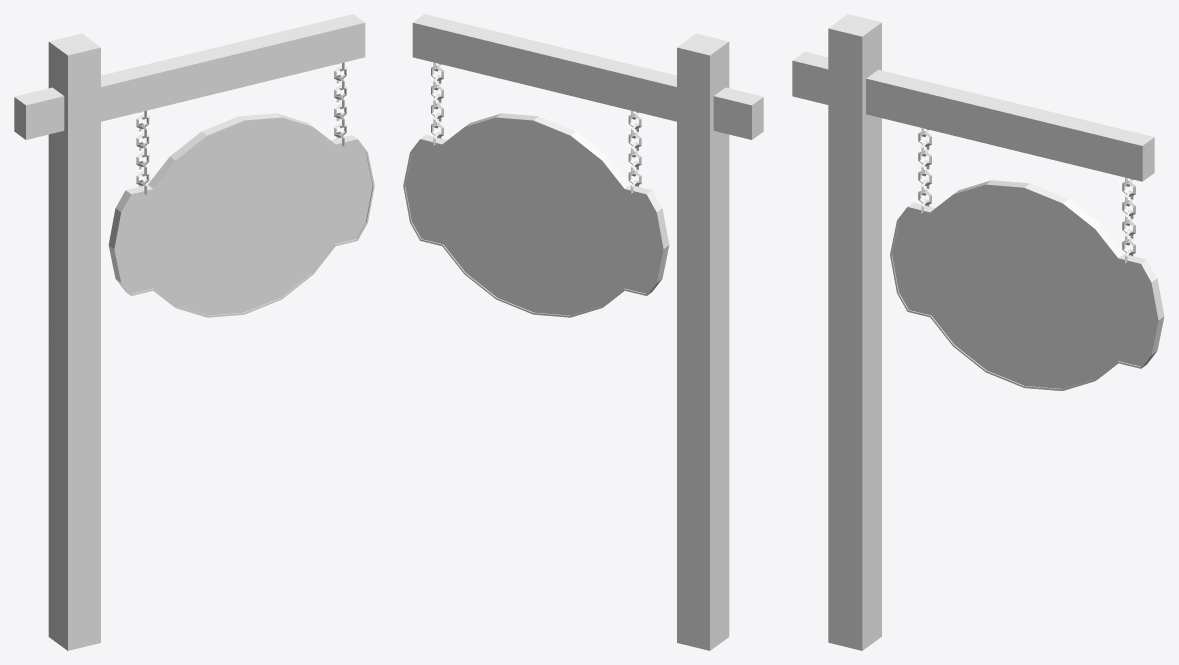
Rendered from Bld_Farm_Sign_02.glb.
3 renders of one model, left to right at view 1: azimuth 30°, elevation 25°; view 2: azimuth 150°, elevation 25°; view 3: azimuth 330°, elevation 25°, orthographic. The views are drawn at different scales.
Visible parts, largest first — view 1: Bld_Farm_Sign_02; view 2: Bld_Farm_Sign_02; view 3: Bld_Farm_Sign_02.
Part boxes in pixels (x1,y1,x2,y2): Bld_Farm_Sign_02: [14, 14, 374, 650]; Bld_Farm_Sign_02: [403, 14, 763, 650]; Bld_Farm_Sign_02: [792, 14, 1164, 650].
Size of the model in its own units: 1.27 by 2.05 by 0.1195.
Materials: 1 (1 with a texture image).
